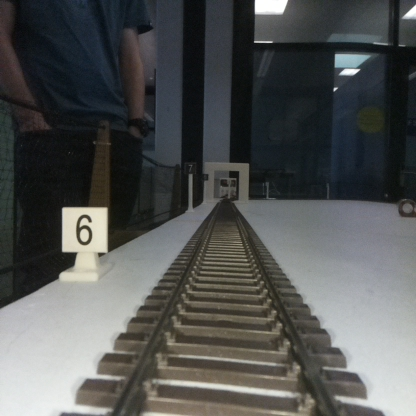black-info-7: (185, 163, 196, 213)
white-stop-6: (61, 208, 107, 277)
